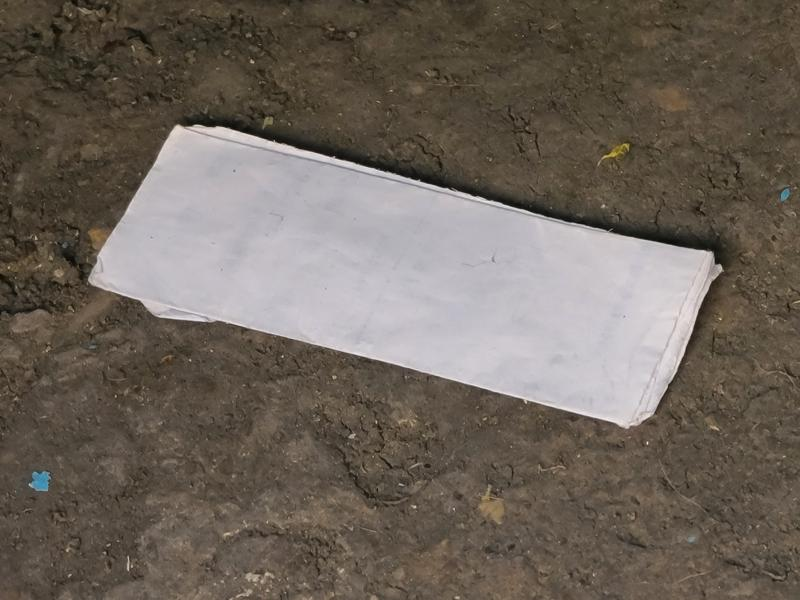papel: (85, 124, 723, 430)
